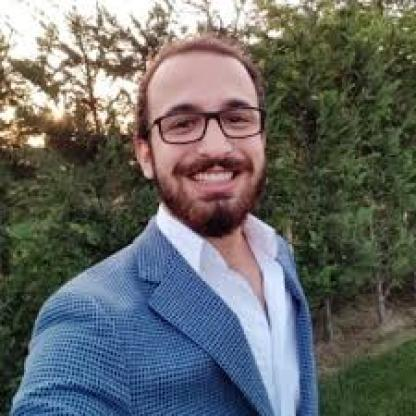person: (136, 37, 268, 243)
